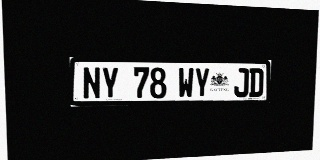7: (132, 67, 149, 99)
8: (150, 67, 166, 98)
D: (249, 68, 264, 97)
J: (234, 68, 249, 97)
N: (82, 67, 101, 99)
W: (178, 67, 194, 98)
Y: (101, 67, 119, 99), (194, 68, 210, 98)
